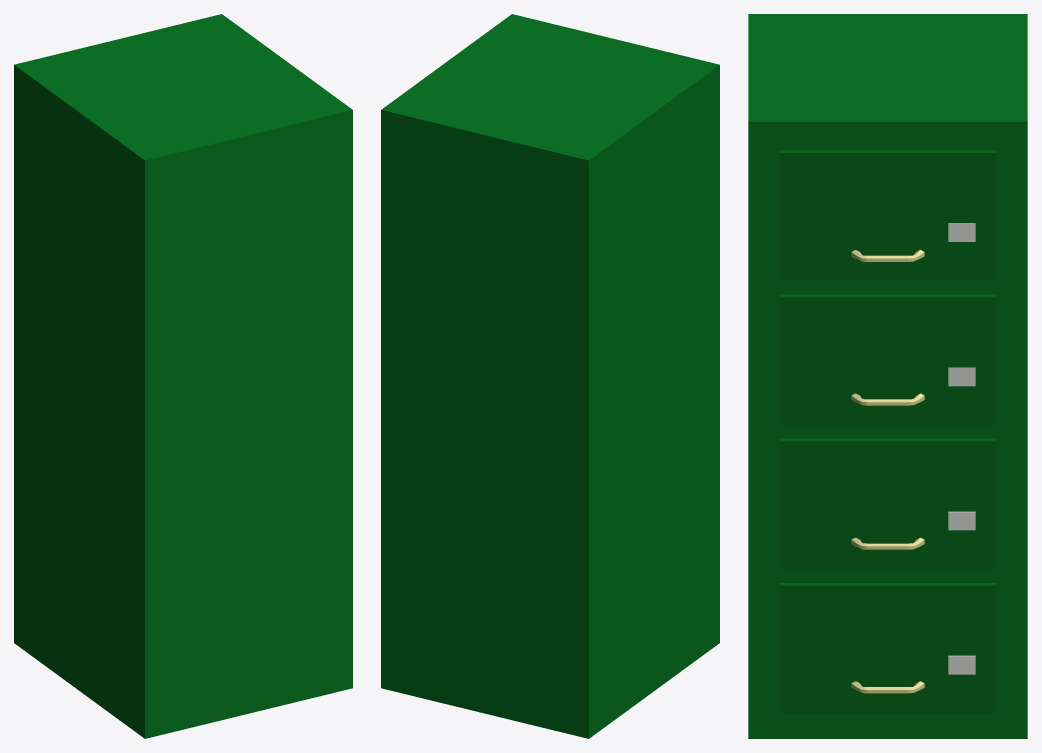
The model's file is ARQUIVO UV.fbx.
The picture shows the model from 3 angles, left to right: view 1: azimuth 30°, elevation 25°; view 2: azimuth 150°, elevation 25°; view 3: azimuth 270°, elevation 25°; orthographic projection. The views are drawn at different scales.
Visible parts, largest first — view 1: pasted__group25; view 2: pasted__group25; view 3: pasted__group25.
Part boxes in pixels (x1=…): pasted__group25: x1=14, y1=14, x2=352, y2=738; pasted__group25: x1=381, y1=14, x2=719, y2=738; pasted__group25: x1=748, y1=14, x2=1027, y2=738.
Size of the model in its own units: 0.5477 by 1.35 by 0.554.
